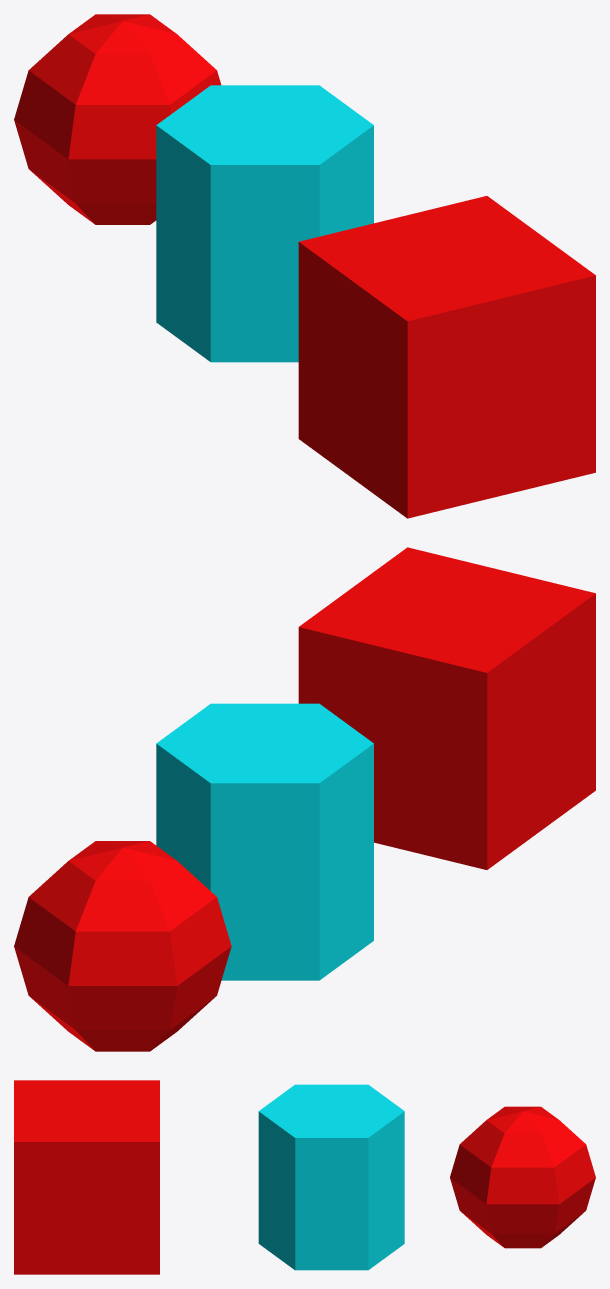
File: TestModel.glb
3 renders of one model, top to bottom at view 1: azimuth 30°, elevation 25°; view 2: azimuth 150°, elevation 25°; view 3: azimuth 270°, elevation 25°, orthographic. The views are drawn at different scales.
Parts seen in each view (by area): view 1: Cube, Cylinder, Sphere; view 2: Cube, Cylinder, Sphere; view 3: Cube, Cylinder, Sphere.
Boxes of the visible parts, box(x1,y1,x2,y2) form: Cube: box(298, 196, 595, 518); Cylinder: box(156, 85, 373, 362); Sphere: box(14, 14, 221, 224); Cube: box(298, 547, 595, 869); Cylinder: box(156, 703, 373, 980); Sphere: box(14, 841, 231, 1051); Cube: box(14, 1080, 159, 1274); Cylinder: box(258, 1084, 404, 1270); Sphere: box(450, 1106, 595, 1248).
Bounding box in the file's own units: 2 × 2 × 7.96.
Materials: 3 (3 with a texture image).
